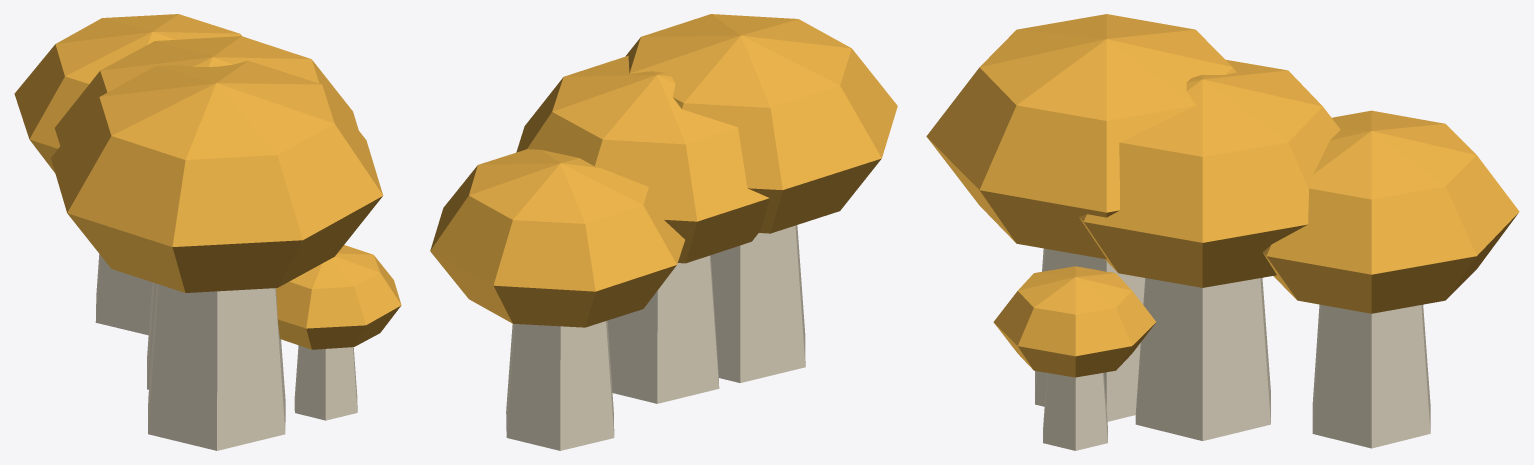
Rendered from mushroom-cream.glb.
The picture shows the model from 3 angles, left to right: view 1: azimuth 30°, elevation 25°; view 2: azimuth 150°, elevation 25°; view 3: azimuth 270°, elevation 25°; orthographic projection. The views are drawn at different scales.
Parts seen in each view (by area): view 1: mushrooms; view 2: mushrooms; view 3: mushrooms.
Boxes of the visible parts, <box> form: mushrooms: <box>14,14,401,450</box>; mushrooms: <box>430,14,897,450</box>; mushrooms: <box>926,14,1519,450</box>.
Size of the model in its own units: 0.3418 by 0.3242 by 0.501.
